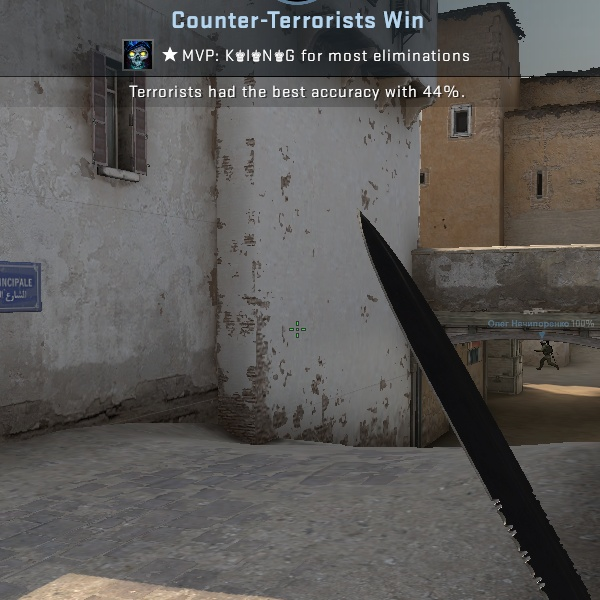ct_body: (535, 340, 557, 370)
ct_head: (540, 340, 547, 348)
